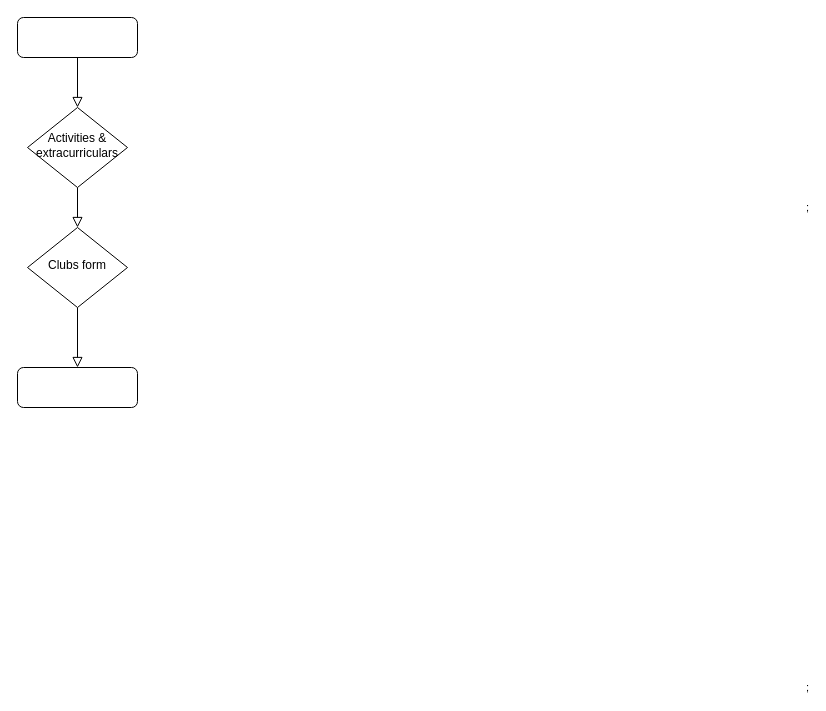
Some shapes in this 826 by 711 pixel diagram are drawn without their labels. The centre of each missing label's shape, as x and y in pixels:
"Del MarHome" belongs at point (77, 37).
"Sports form" belongs at point (77, 387).
